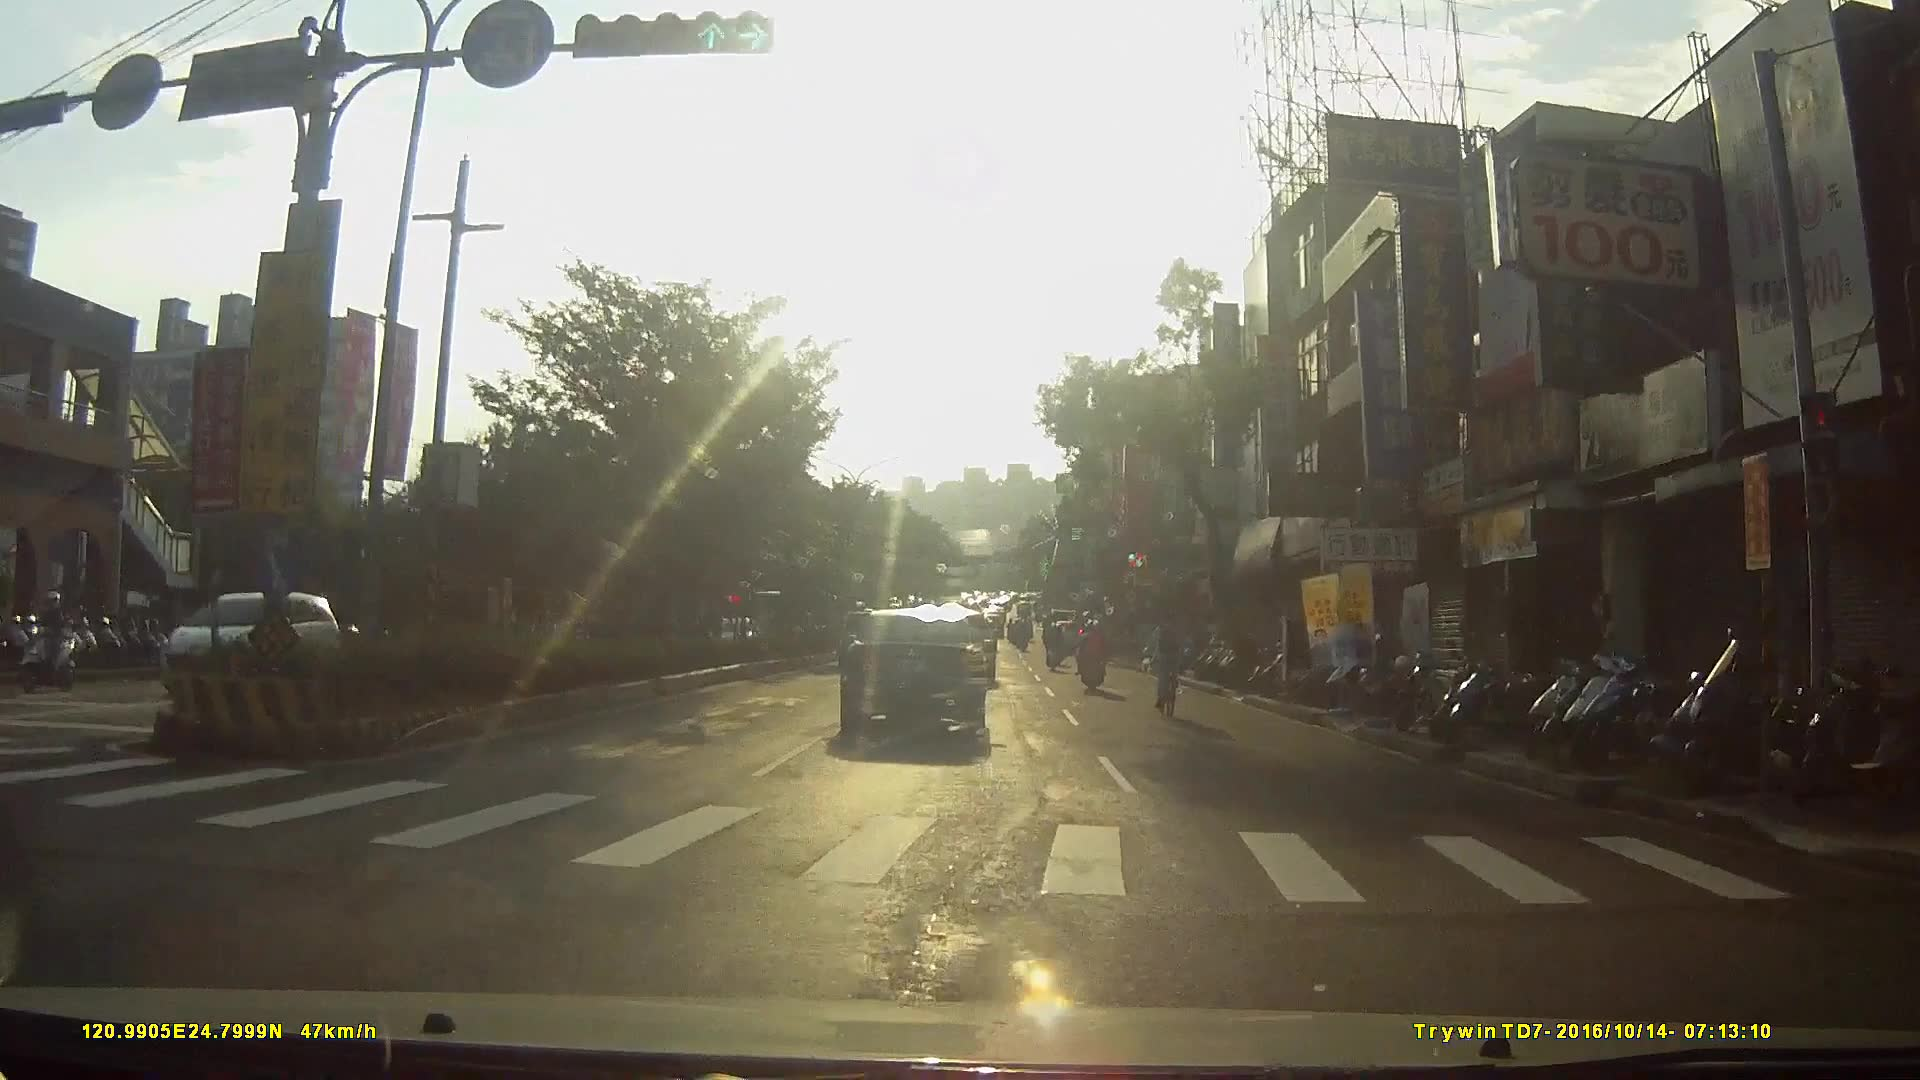rider: (1143, 607, 1193, 719), (24, 591, 80, 689), (1078, 620, 1109, 694), (1043, 622, 1067, 673)
vehicle: (149, 586, 353, 699), (840, 606, 999, 750)
